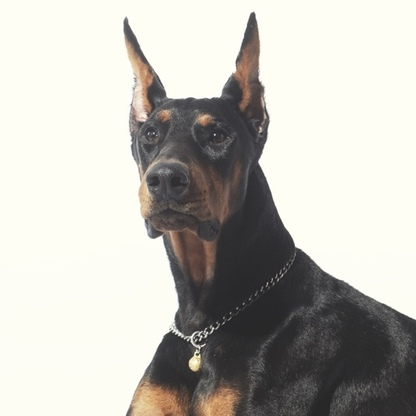doberman: (111, 10, 416, 413)
